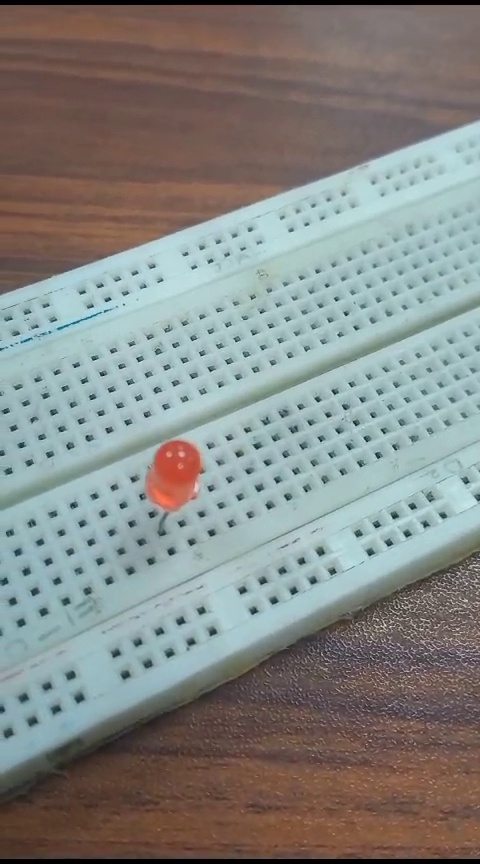LED: (143, 437, 206, 536)
